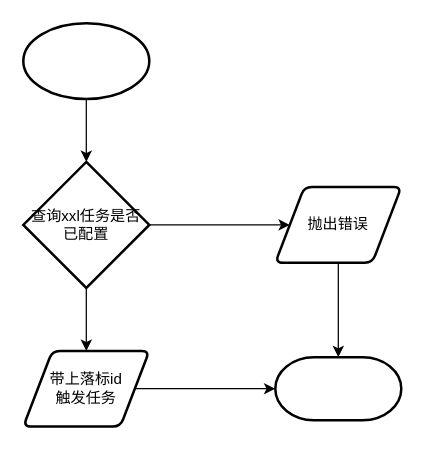
The diagram is 423 pixels wide and 449 high, and some of its shapes have lost their labels. The centre of each missing label's shape, as x and y in pixels:
"开始" goes at point (85, 60).
"返回给前端界面" goes at point (337, 388).
